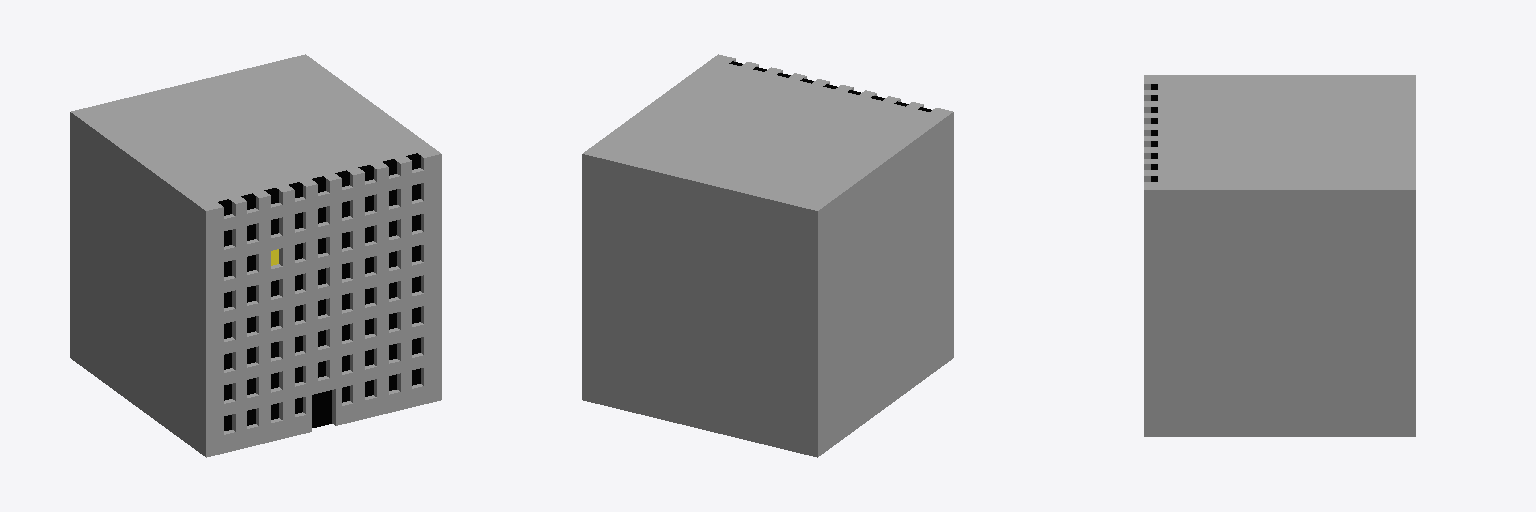
3 views of the same model, side by side, from view 1: azimuth 30°, elevation 25°; view 2: azimuth 150°, elevation 25°; view 3: azimuth 270°, elevation 25° (orthographic).
Parts seen in each view (by area): view 1: object 1; view 2: object 1; view 3: object 1.
Boxes of the visible parts, <box> form: object 1: <box>70,54,441,457</box>; object 1: <box>582,54,953,457</box>; object 1: <box>1144,75,1415,436</box>.
Bounding box in the file's own units: 4 × 4 × 4.
Materials: 1 (1 with a texture image).